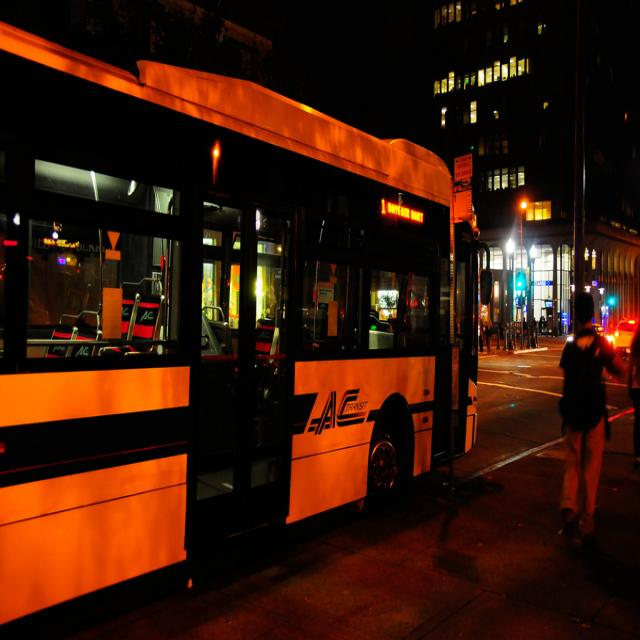Bus: (0, 114, 496, 635)
People: (553, 285, 612, 530), (614, 280, 640, 536), (498, 303, 532, 376), (520, 291, 557, 344), (476, 299, 505, 366)
car: (608, 310, 640, 357)
